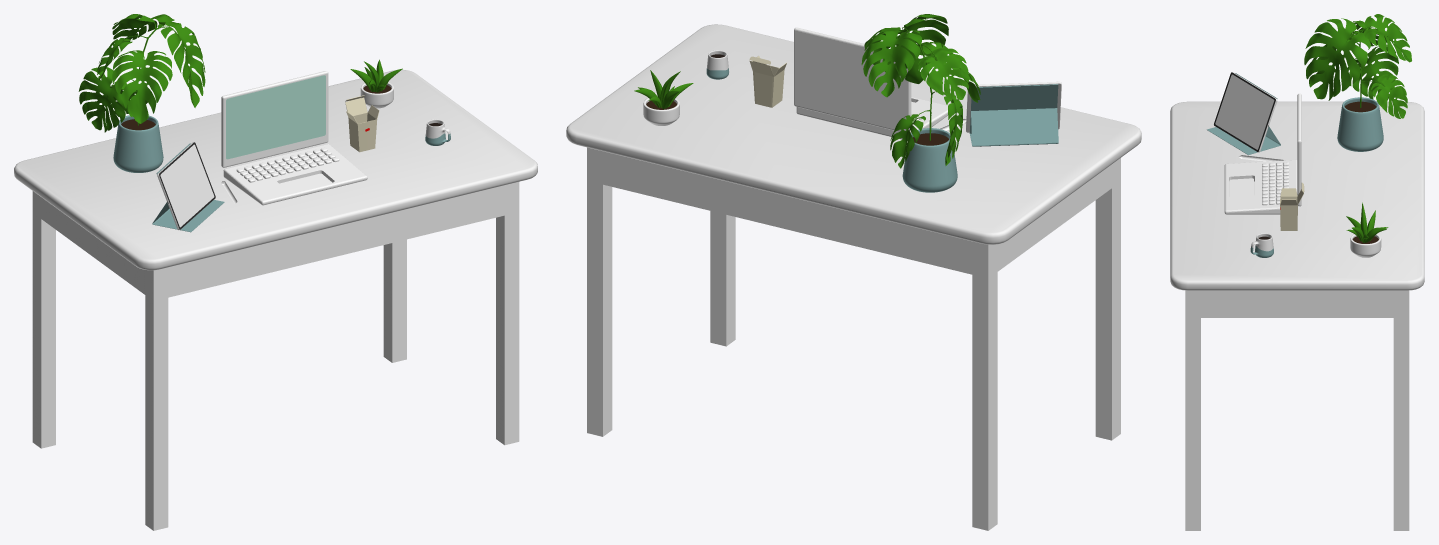
3 renders of one model, left to right at view 1: azimuth 30°, elevation 25°; view 2: azimuth 150°, elevation 25°; view 3: azimuth 270°, elevation 25°, orthographic. The views are drawn at different scales.
Visible parts, largest first — view 1: tabletop.001, Cube.001, Cube.004, Laptop, monstera leaf.005, Plane.001, Vert, monstera leaf.004, Cube.002, monstera leaf.003, Vert.003, Cube (+3 smaller); view 2: tabletop.001, Cube.001, Cube.002, Plane, monstera leaf.002, Vert, monstera leaf.006, monstera leaf.003, Laptop, Vert.003, monstera leaf.007, monstera leaf.004; view 3: tabletop.001, Cube.001, monstera leaf.003, Plane.001, Laptop, Vert, monstera leaf.002, monstera leaf.004, monstera leaf.007, Vert.003, Cube, Plane (+4 smaller).
Boxes of the visible parts, box(x1,y1,x2,y2) form: tabletop.001: box(14, 69, 537, 270); Cube.001: box(32, 182, 519, 530); Cube.004: box(226, 75, 325, 159); Laptop: box(223, 144, 367, 205); monstera leaf.005: box(112, 50, 172, 123); Plane.001: box(157, 142, 214, 230); Vert: box(113, 115, 163, 172); monstera leaf.004: box(78, 67, 128, 132); Cube.002: box(221, 71, 328, 167); monstera leaf.003: box(158, 21, 205, 107); Vert.003: box(345, 95, 379, 152); Cube: box(236, 147, 339, 182); tabletop.001: box(566, 24, 1141, 244); Cube.001: box(587, 147, 1120, 530); Cube.002: box(794, 27, 911, 132); Plane: box(969, 84, 1058, 146); monstera leaf.002: box(861, 30, 921, 97); Vert: box(902, 128, 957, 192); monstera leaf.006: box(918, 48, 968, 99); monstera leaf.003: box(864, 14, 948, 83); Laptop: box(796, 96, 947, 139); Vert.003: box(749, 56, 786, 107); monstera leaf.007: box(890, 114, 925, 168); monstera leaf.004: box(943, 92, 962, 165); tabletop.001: box(1170, 101, 1424, 290); Cube.001: box(1185, 290, 1409, 530); monstera leaf.003: box(1304, 18, 1370, 100); Plane.001: box(1215, 72, 1277, 152); Laptop: box(1224, 160, 1297, 214); Vert: box(1337, 97, 1383, 151); monstera leaf.002: box(1364, 14, 1411, 62); monstera leaf.004: box(1347, 45, 1398, 99); monstera leaf.007: box(1371, 74, 1407, 118); Vert.003: box(1280, 182, 1304, 230); Cube: box(1262, 162, 1288, 205); Plane: box(1207, 73, 1280, 155).
Bounding box in the file's own units: 1.97 × 1.96 × 1.17.
